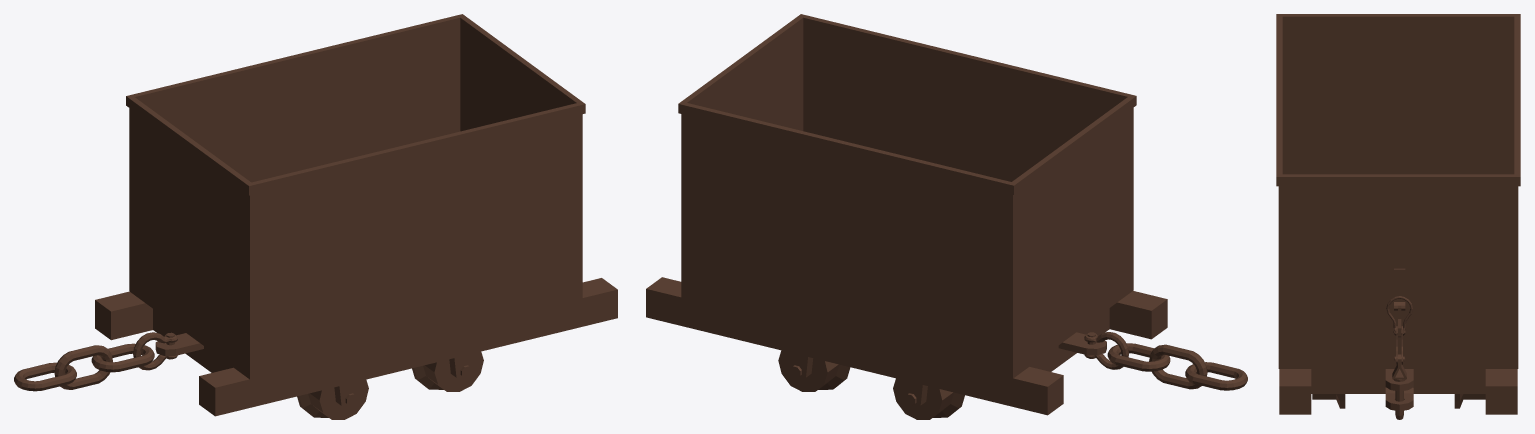
Rendered from tool_coal_tub.glb.
The picture shows the model from 3 angles, left to right: view 1: azimuth 30°, elevation 25°; view 2: azimuth 150°, elevation 25°; view 3: azimuth 270°, elevation 25°; orthographic projection.
Visible parts, largest first — view 1: product-32e3055b-efcd-44a3-8fea-c175f99c5d22-body; view 2: product-32e3055b-efcd-44a3-8fea-c175f99c5d22-body; view 3: product-32e3055b-efcd-44a3-8fea-c175f99c5d22-body.
Boxes of the visible parts, x1=… form: product-32e3055b-efcd-44a3-8fea-c175f99c5d22-body: x1=14, y1=14, x2=617, y2=419; product-32e3055b-efcd-44a3-8fea-c175f99c5d22-body: x1=646, y1=14, x2=1247, y2=419; product-32e3055b-efcd-44a3-8fea-c175f99c5d22-body: x1=1276, y1=14, x2=1520, y2=419.
Bounding box in the file's own units: 0.45 × 0.2249 × 0.1773.
